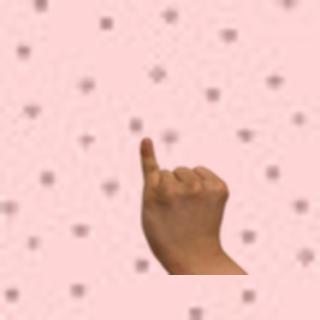FINE: (131, 133, 235, 260)
